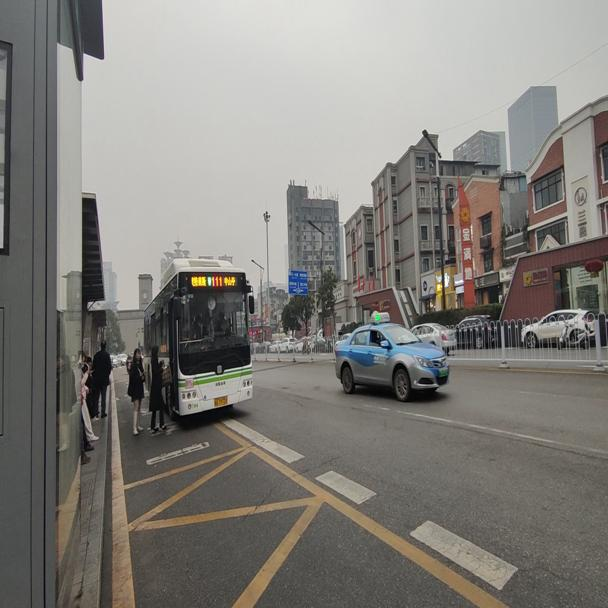bus: (143, 254, 256, 418)
screen: (209, 272, 223, 288)
